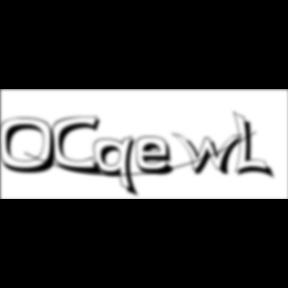C: (52, 115, 106, 178)
L: (233, 110, 277, 182)
O: (0, 117, 64, 176)
e: (135, 135, 181, 178)
q: (94, 135, 144, 200)
w: (172, 132, 250, 178)
